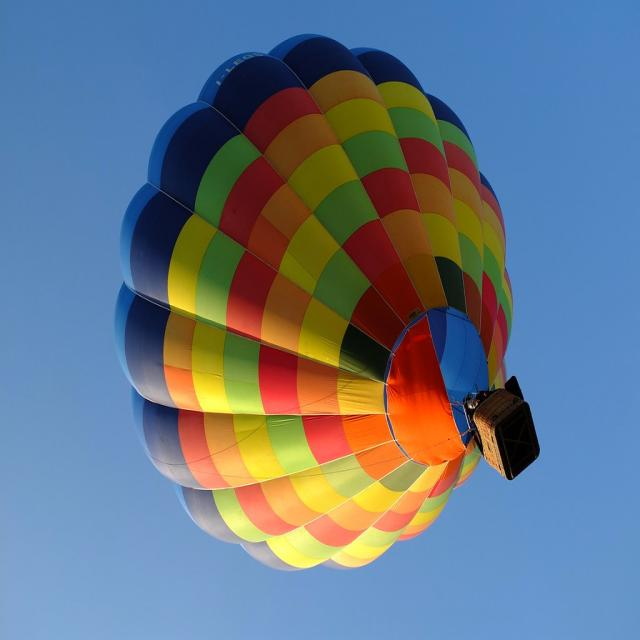balloon: (114, 33, 539, 572)
